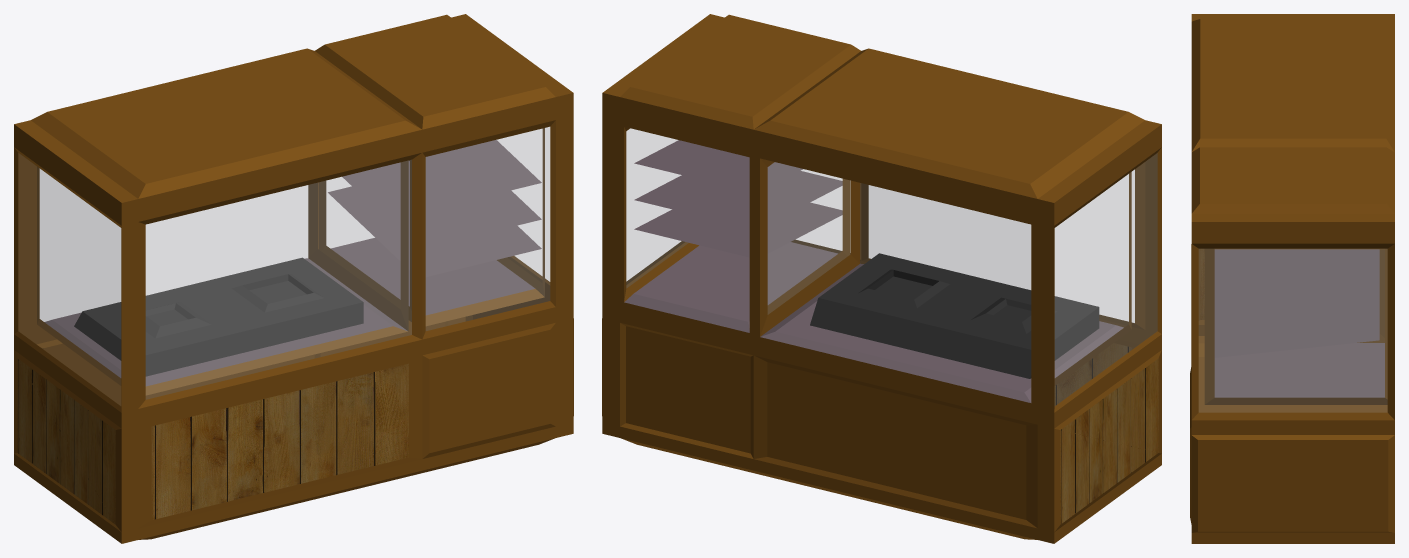
The model's file is balandongan.glb.
3 renders of one model, left to right at view 1: azimuth 30°, elevation 25°; view 2: azimuth 150°, elevation 25°; view 3: azimuth 270°, elevation 25°, orthographic. The views are drawn at different scales.
Parts seen in each view (by area): view 1: Node3, Node1; view 2: Node3, Node1; view 3: Node3.
Part boxes in pixels (bbox=[...]): Node3: bbox=[14, 14, 573, 543]; Node1: bbox=[74, 257, 363, 376]; Node3: bbox=[602, 14, 1161, 543]; Node1: bbox=[810, 253, 1099, 378]; Node3: bbox=[1190, 14, 1394, 543].
Size of what is drawn, in the model's own units: 5.43 by 4.04 by 2.23.
Materials: 4 (2 with a texture image).
